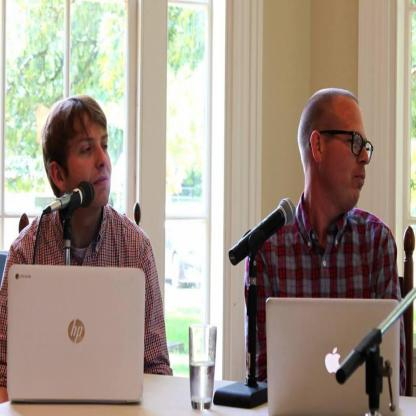board: (8, 264, 146, 404), (265, 295, 400, 415)
